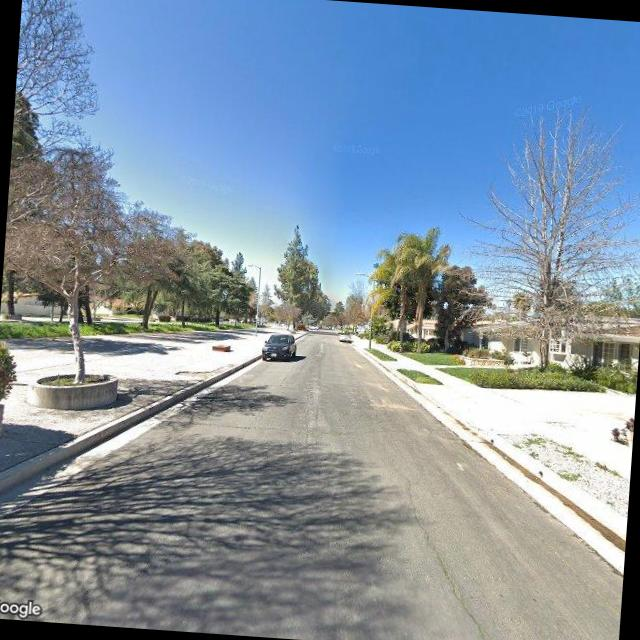pothole: (387, 469, 503, 640)
